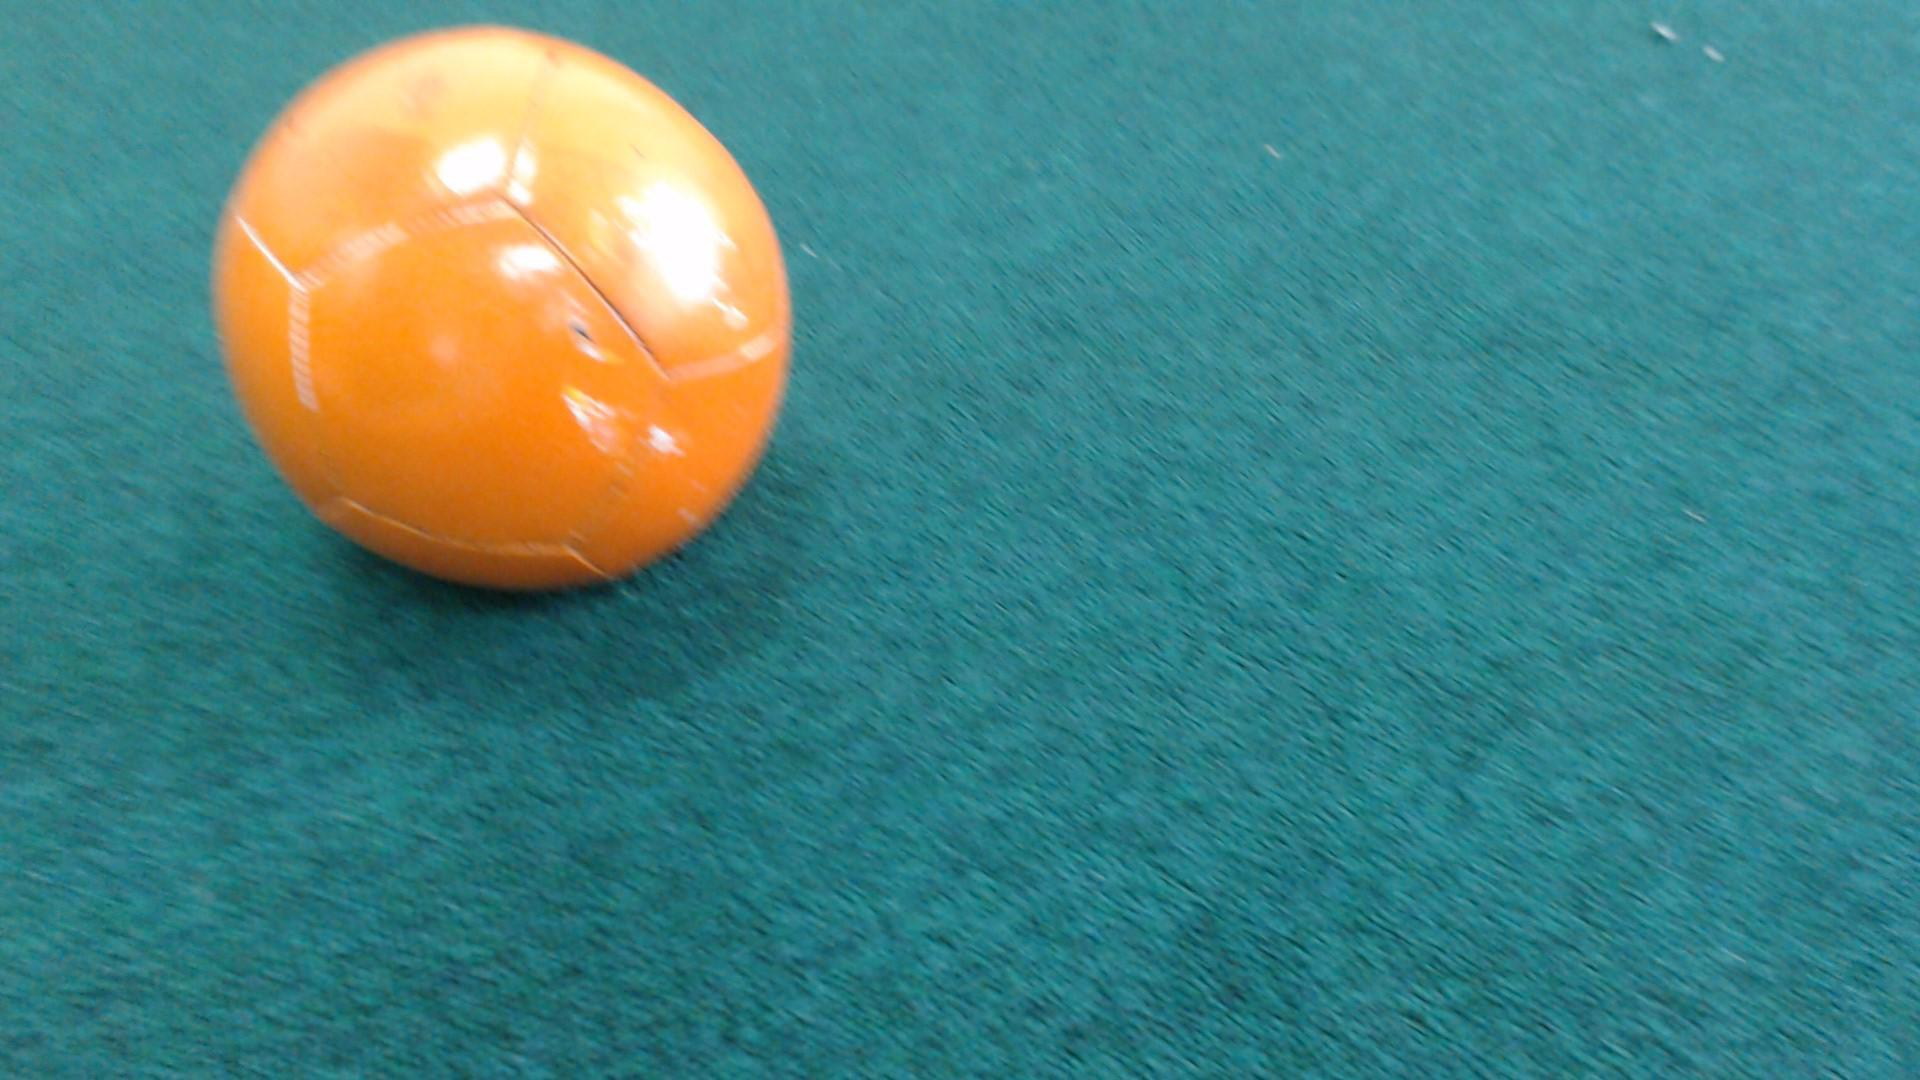bola: (158, 22, 825, 626)
